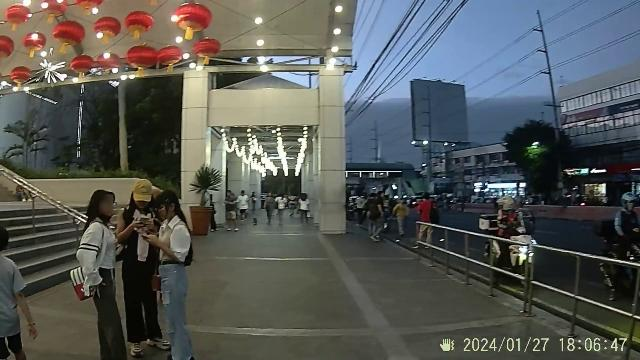potted_plant: (189, 166, 221, 238)
